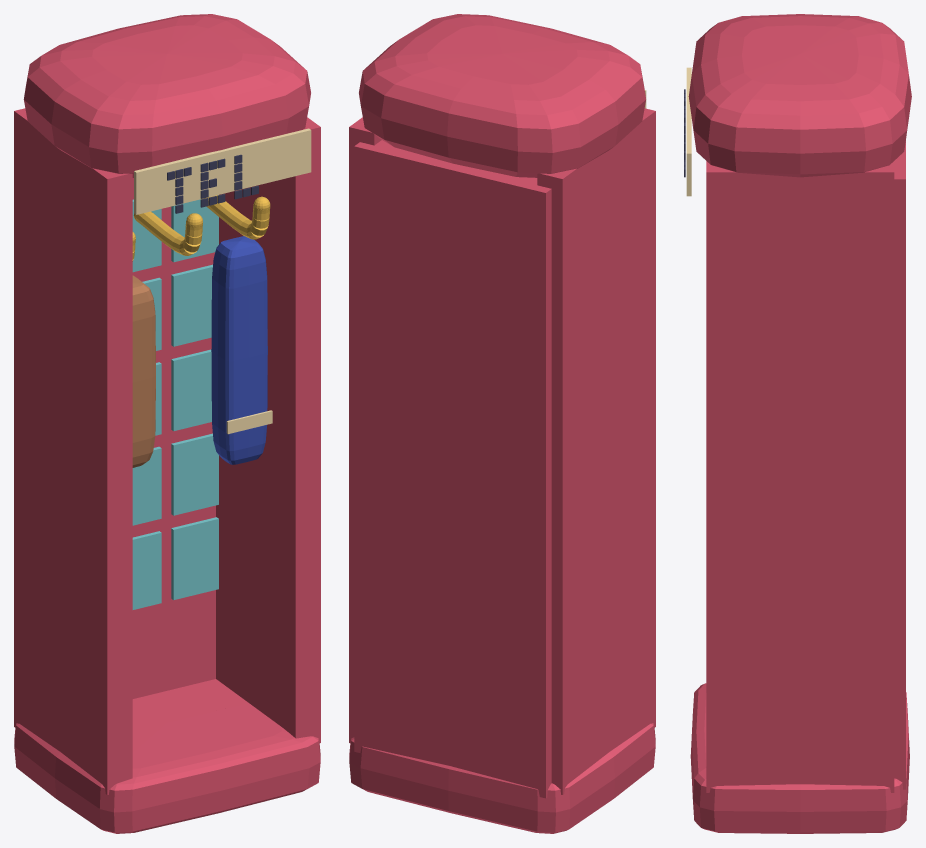
Rendered from telephone-box-coat-rack.glb.
The picture shows the model from 3 angles, left to right: view 1: azimuth 30°, elevation 25°; view 2: azimuth 150°, elevation 25°; view 3: azimuth 270°, elevation 25°; orthographic projection.
Visible parts, largest first — view 1: telephone-box-coat-rack; view 2: telephone-box-coat-rack; view 3: telephone-box-coat-rack.
Boxes of the visible parts, x1,y1,x2,y2 form: telephone-box-coat-rack: (14, 14, 320, 833); telephone-box-coat-rack: (349, 14, 655, 833); telephone-box-coat-rack: (684, 14, 911, 833).
Size of the model in its own units: 0.69 by 2.06 by 0.582.
